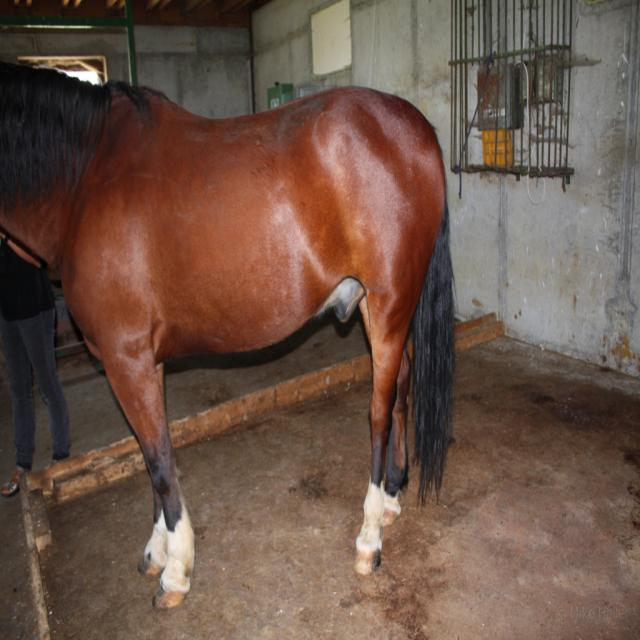Horse: (2, 26, 460, 615)
